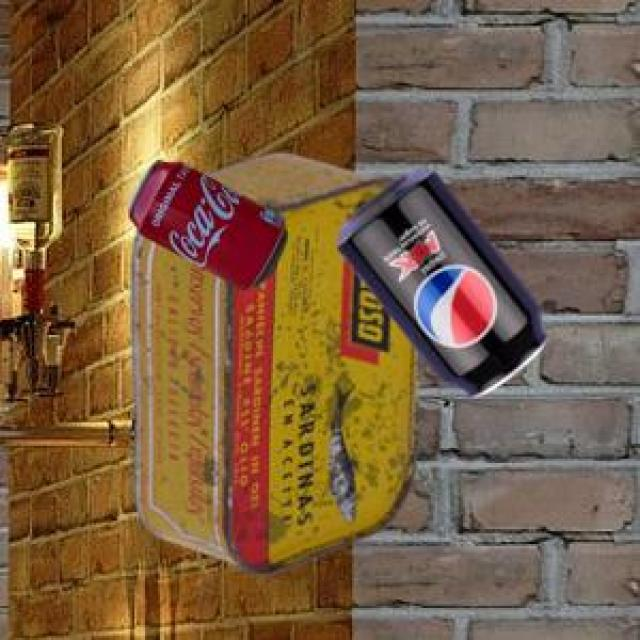logam: (129, 150, 417, 573), (334, 167, 545, 394), (125, 157, 283, 287)
